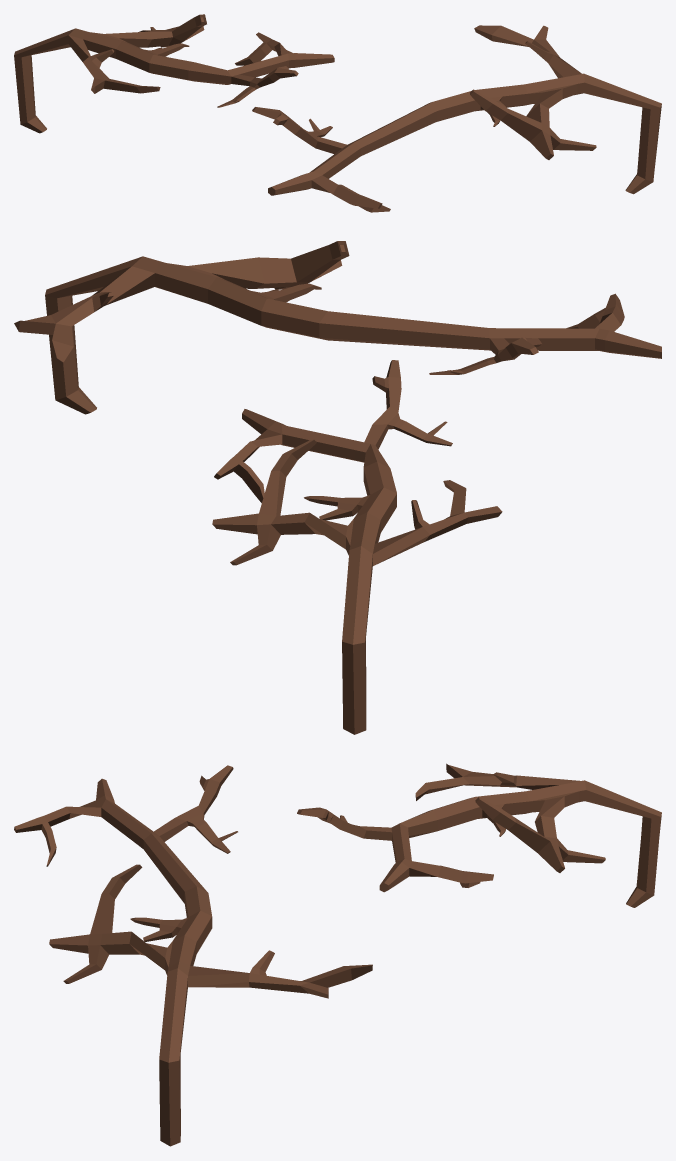
Rendered from Roots.fbx.
3 renders of one model, top to bottom at view 1: azimuth 30°, elevation 25°; view 2: azimuth 150°, elevation 25°; view 3: azimuth 270°, elevation 25°, orthographic. The views are drawn at different scales.
Parts seen in each view (by area): view 1: Roots; view 2: Roots; view 3: Roots.
Part boxes in pixels (box(x1,y1,x2,y2)): Roots: box(14, 14, 661, 212); Roots: box(14, 241, 661, 734); Roots: box(14, 763, 661, 1146).
Bounding box in the file's own units: 361 × 119 × 385.
Materials: 1 (1 with a texture image).
